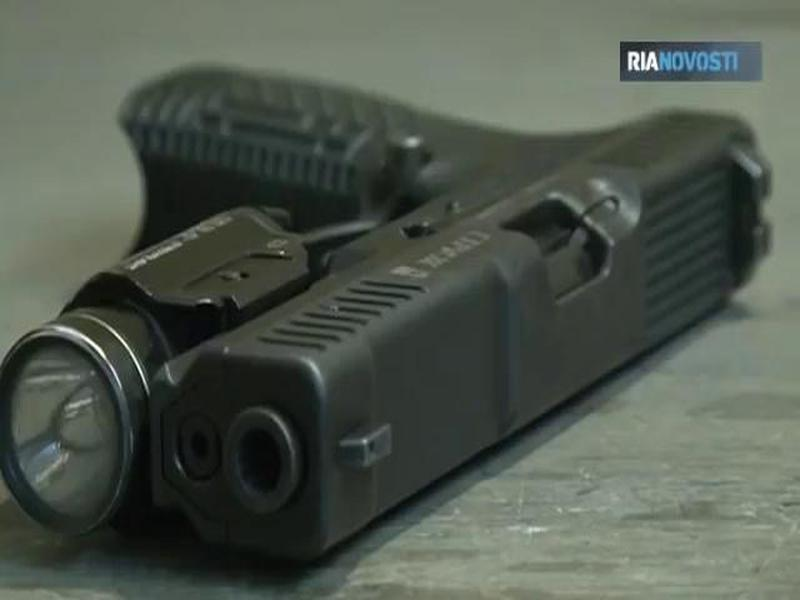Pistola: (83, 61, 783, 571)
